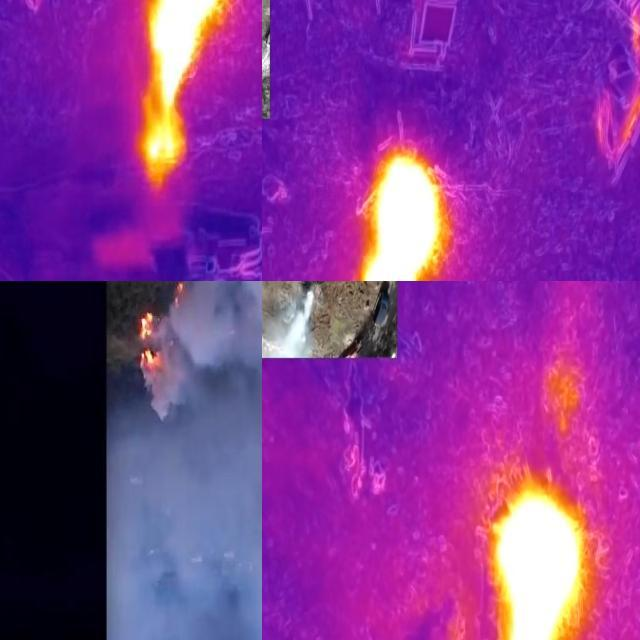fire: (141, 1, 231, 185), (492, 488, 588, 640), (356, 146, 448, 282)
